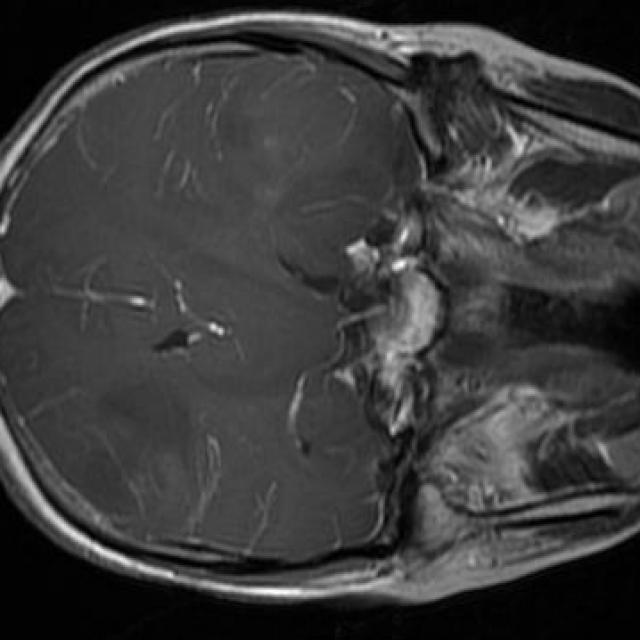glioma: (105, 380, 193, 458)
